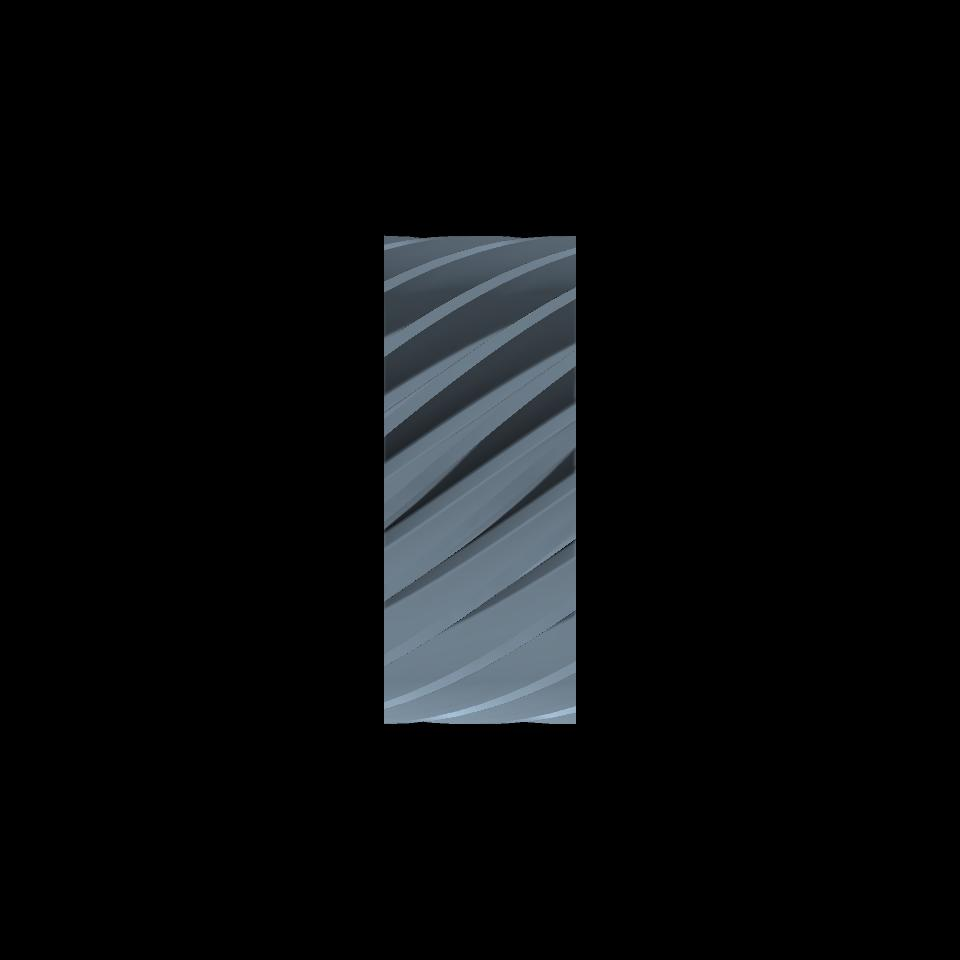Helical: (383, 236, 576, 723)
